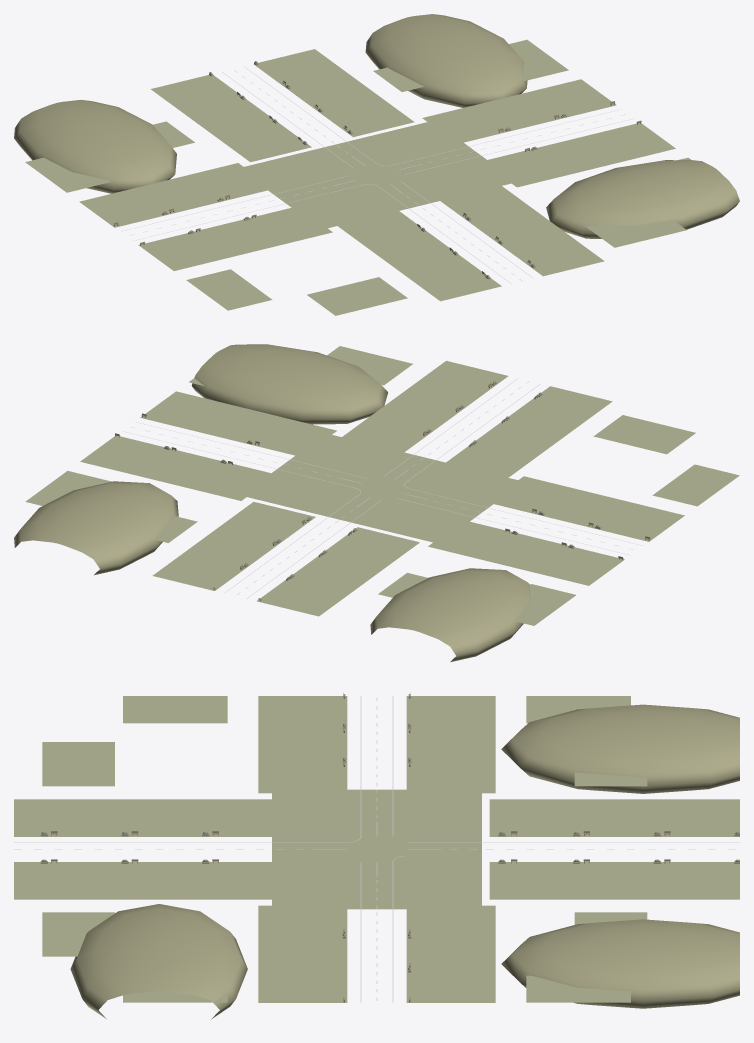
3 renders of one model, top to bottom at view 1: azimuth 30°, elevation 25°; view 2: azimuth 150°, elevation 25°; view 3: azimuth 270°, elevation 25°, orthographic. The views are drawn at different scales.
Parts seen in each view (by area): view 1: static; view 2: static; view 3: static.
Boxes of the visible parts, x1,y1,x2,y2 form: static: (14, 14, 739, 315); static: (14, 344, 739, 662); static: (14, 692, 739, 1019).
Size of what is drawn, in the model's own units: 180 by 14.08 by 180.
